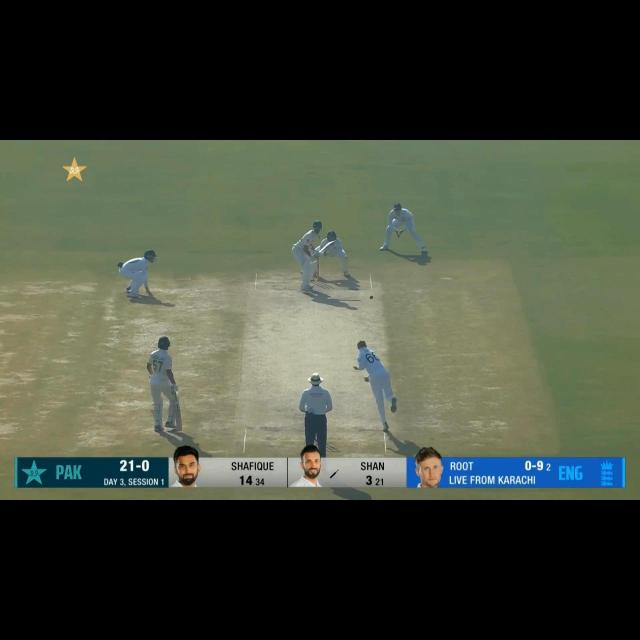bat: (174, 402, 183, 433), (317, 240, 335, 254)
toe: (177, 426, 183, 432), (329, 240, 335, 245)
